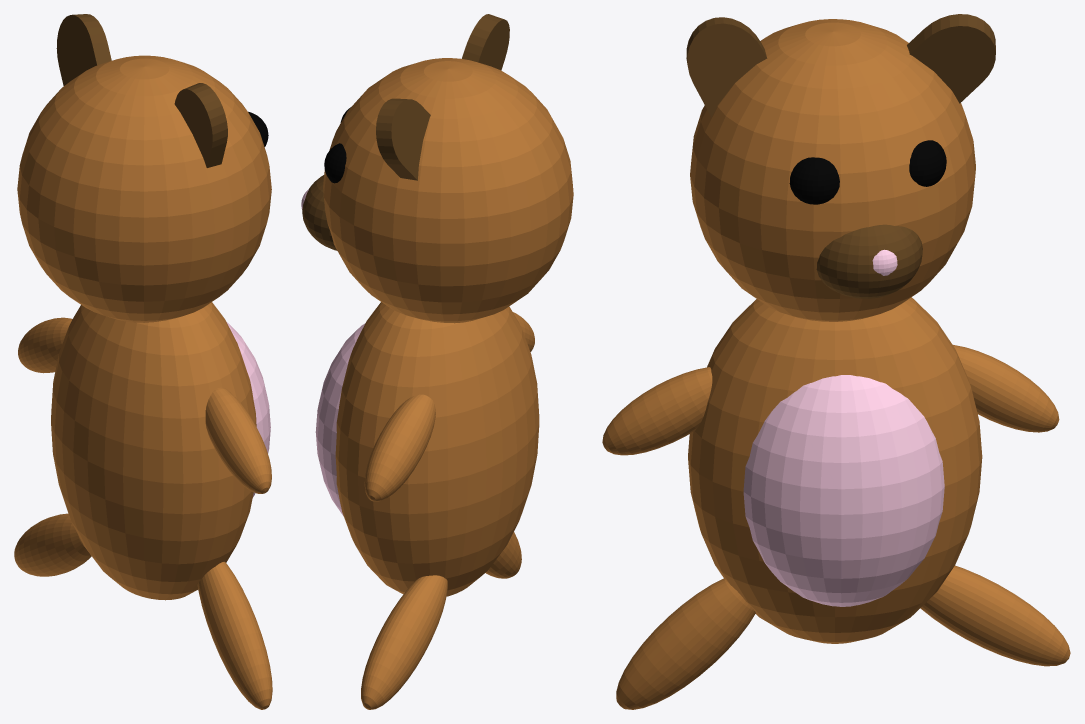
File: toy.fbx
3 views of the same model, side by side, from view 1: azimuth 30°, elevation 25°; view 2: azimuth 150°, elevation 25°; view 3: azimuth 270°, elevation 25° (orthographic). The views are drawn at different scales.
Parts seen in each view (by area): view 1: teddyBear; view 2: teddyBear; view 3: teddyBear.
Part boxes in pixels (bbox=[...]): teddyBear: bbox=[14, 14, 272, 709]; teddyBear: bbox=[301, 14, 573, 709]; teddyBear: bbox=[602, 14, 1070, 709].
Bounding box in the file's own units: 157 × 379 × 237.
